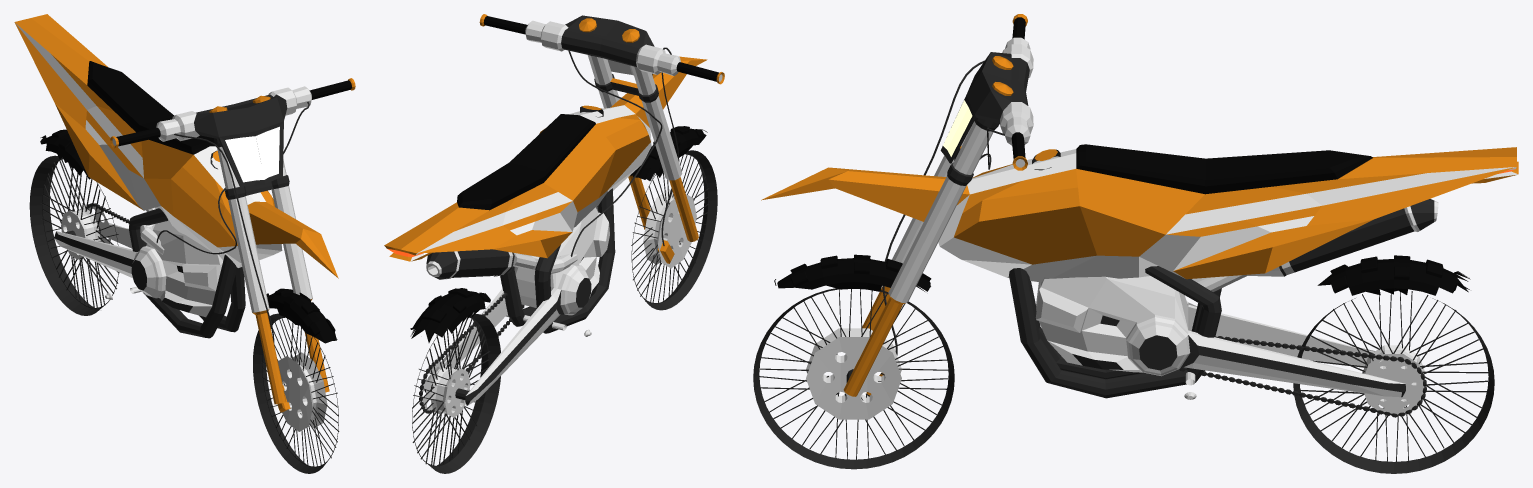
File: body.glb
3 renders of one model, left to right at view 1: azimuth 30°, elevation 25°; view 2: azimuth 150°, elevation 25°; view 3: azimuth 270°, elevation 25°, orthographic. The views are drawn at different scales.
Visible parts, largest first — view 1: Cube_Material.002_0, Cube_Material.001_0, Cube_METAL_0, Cube_TYRE_0, Cube_SECDRY_0, Cube_Material.003_0, Cube_wire.001_0, Cube_EXH_0; view 2: Cube_Material.002_0, Cube_METAL_0, Cube_Material.001_0, Cube_TYRE_0, Cube_SECDRY_0, Cube_EXH_0, Cube_wire.001_0; view 3: Cube_Material.001_0, Cube_Material.002_0, Cube_METAL_0, Cube_TYRE_0, Cube_SECDRY_0, Cube_EXH_0, Cube_wire.001_0.
Boxes of the visible parts, x1=… form: Cube_Material.002_0: x1=29, y1=94, x2=339, y2=473; Cube_Material.001_0: x1=14, y1=14, x2=355, y2=412; Cube_METAL_0: x1=54, y1=86, x2=327, y2=431; Cube_TYRE_0: x1=40, y1=61, x2=351, y2=343; Cube_SECDRY_0: x1=14, y1=22, x2=282, y2=267; Cube_Material.003_0: x1=225, y1=126, x2=279, y2=182; Cube_wire.001_0: x1=156, y1=102, x2=309, y2=343; Cube_EXH_0: x1=140, y1=207, x2=164, y2=254; Cube_Material.002_0: x1=412, y1=15, x2=717, y2=473; Cube_METAL_0: x1=421, y1=20, x2=722, y2=417; Cube_Material.001_0: x1=384, y1=14, x2=724, y2=263; Cube_TYRE_0: x1=410, y1=16, x2=718, y2=342; Cube_SECDRY_0: x1=410, y1=105, x2=651, y2=261; Cube_EXH_0: x1=426, y1=251, x2=577, y2=279; Cube_wire.001_0: x1=568, y1=47, x2=679, y2=256; Cube_Material.001_0: x1=761, y1=14, x2=1518, y2=396; Cube_Material.002_0: x1=753, y1=52, x2=1494, y2=473; Cube_METAL_0: x1=806, y1=37, x2=1424, y2=419; Cube_TYRE_0: x1=774, y1=17, x2=1470, y2=295; Cube_SECDRY_0: x1=938, y1=149, x2=1518, y2=282; Cube_EXH_0: x1=1197, y1=200, x2=1438, y2=291; Cube_wire.001_0: x1=882, y1=60, x2=1004, y2=355.
Size of the model in its own units: 0.8823 by 1.14 by 1.99.
